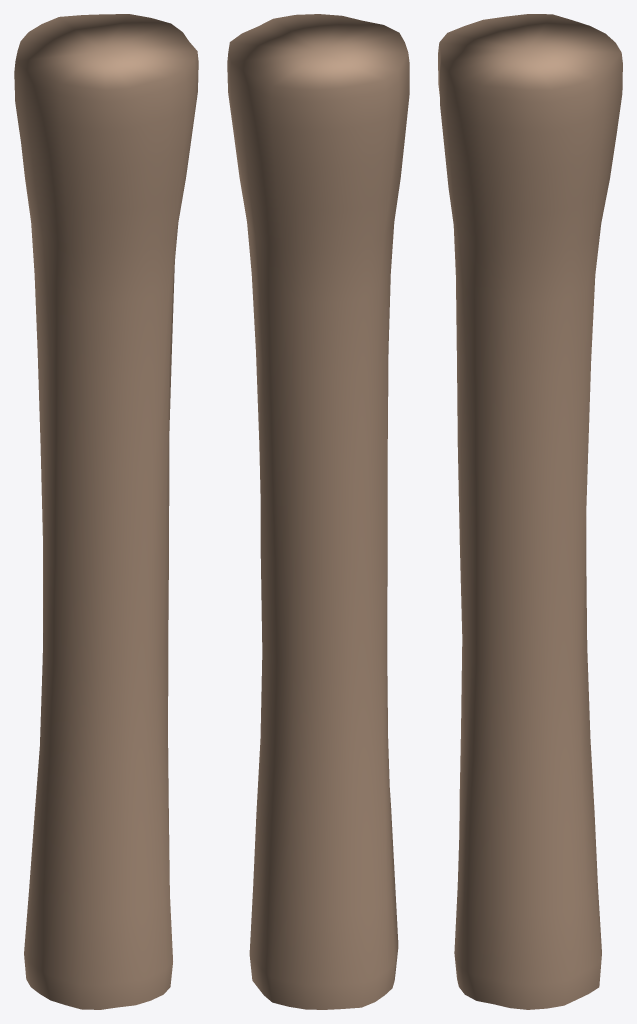
Rendered from bagana-2x10x2-v1.glb.
3 views of the same model, side by side, from view 1: azimuth 30°, elevation 25°; view 2: azimuth 150°, elevation 25°; view 3: azimuth 270°, elevation 25° (orthographic).
Visible parts, largest first — view 1: BAGANA_CARVED_WOOD_SUPPORT; view 2: BAGANA_CARVED_WOOD_SUPPORT; view 3: BAGANA_CARVED_WOOD_SUPPORT.
Part boxes in pixels (box(x1,y1,x2,y2)): BAGANA_CARVED_WOOD_SUPPORT: box(14, 14, 198, 1009); BAGANA_CARVED_WOOD_SUPPORT: box(227, 14, 409, 1009); BAGANA_CARVED_WOOD_SUPPORT: box(438, 14, 622, 1009).
Size of the model in its own units: 0.4478 by 2.5 by 0.451.
